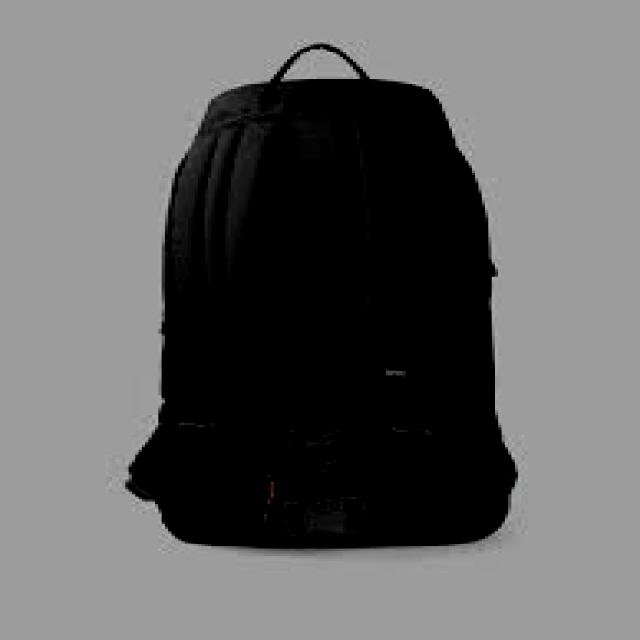backpack: (124, 43, 516, 547)
